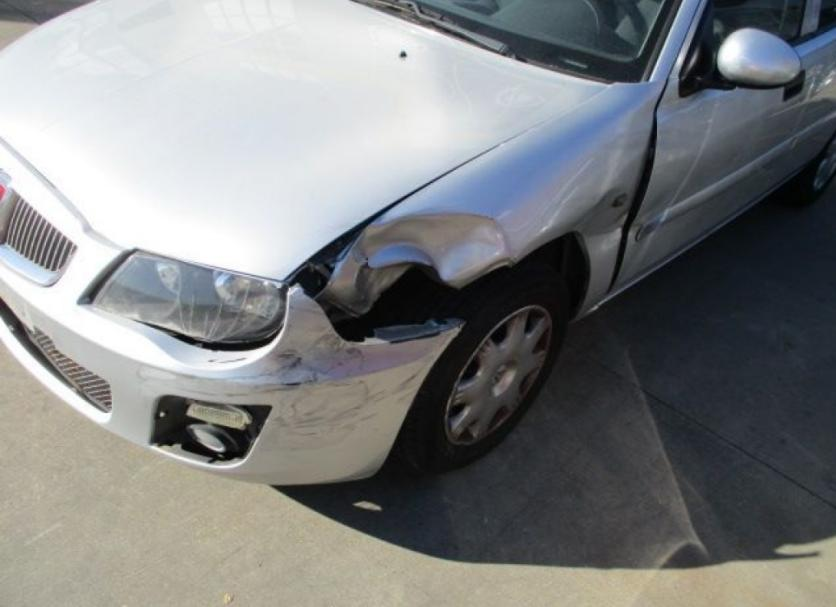Back-door: (790, 0, 835, 176)
Back-wheel: (790, 136, 834, 205)
Back-window: (819, 1, 834, 28)
Fender: (319, 80, 665, 320)
Front-bumper: (0, 134, 464, 484)
Front-door: (611, 0, 819, 293)
Front-wheel: (407, 271, 573, 467)
Front-window: (712, 0, 805, 52)
Grille: (0, 171, 78, 288)
Headlight: (93, 252, 285, 342)
Hood: (0, 0, 608, 282)
Mirror: (682, 29, 800, 98)
Windshield: (378, 0, 674, 82)
